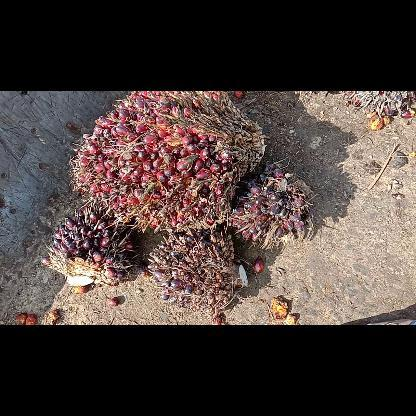TBS abnormal: (145, 228, 247, 310), (46, 212, 134, 288), (237, 169, 316, 245)
TBS masak: (73, 90, 267, 232)
